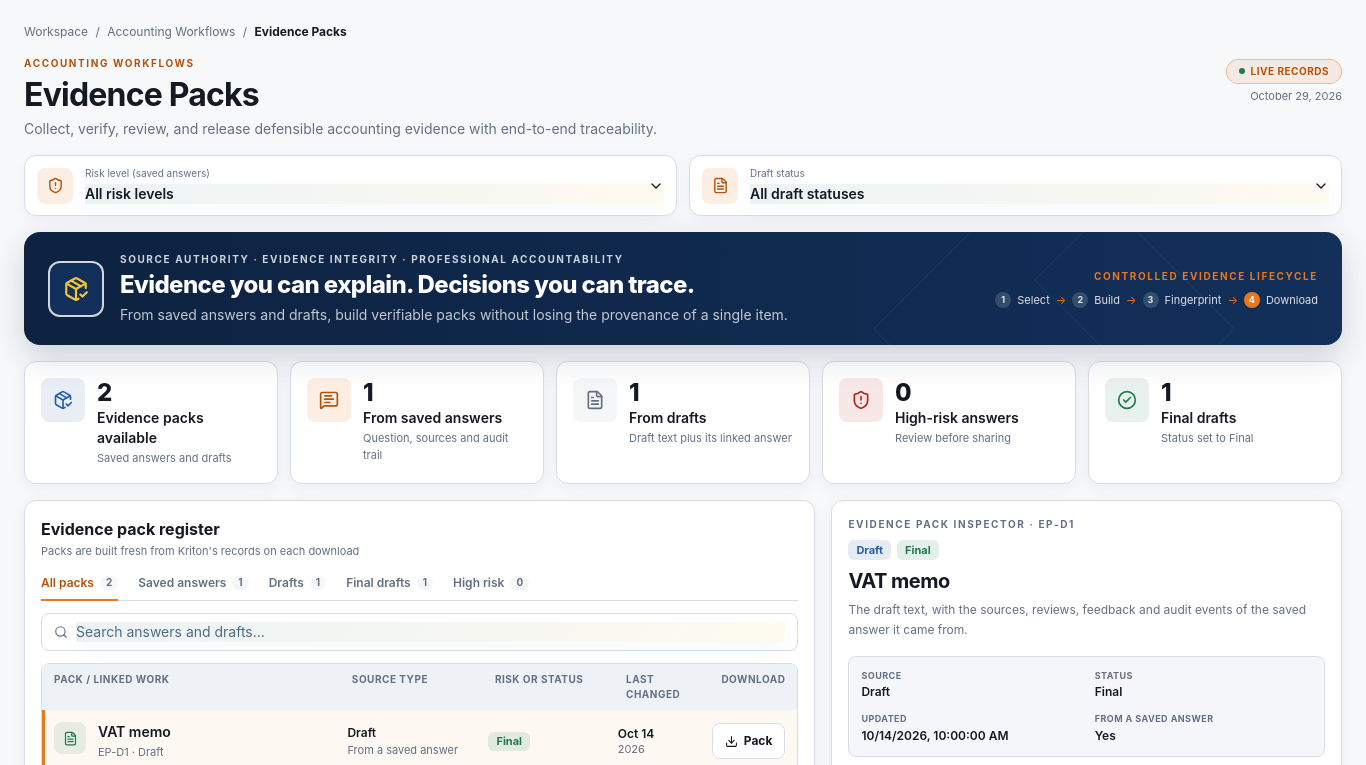
Test case: Evidence Packs › shows a failed download
Click the button with aria-label "Download evidence pack for" at [749, 741], box [712,723,785,759]
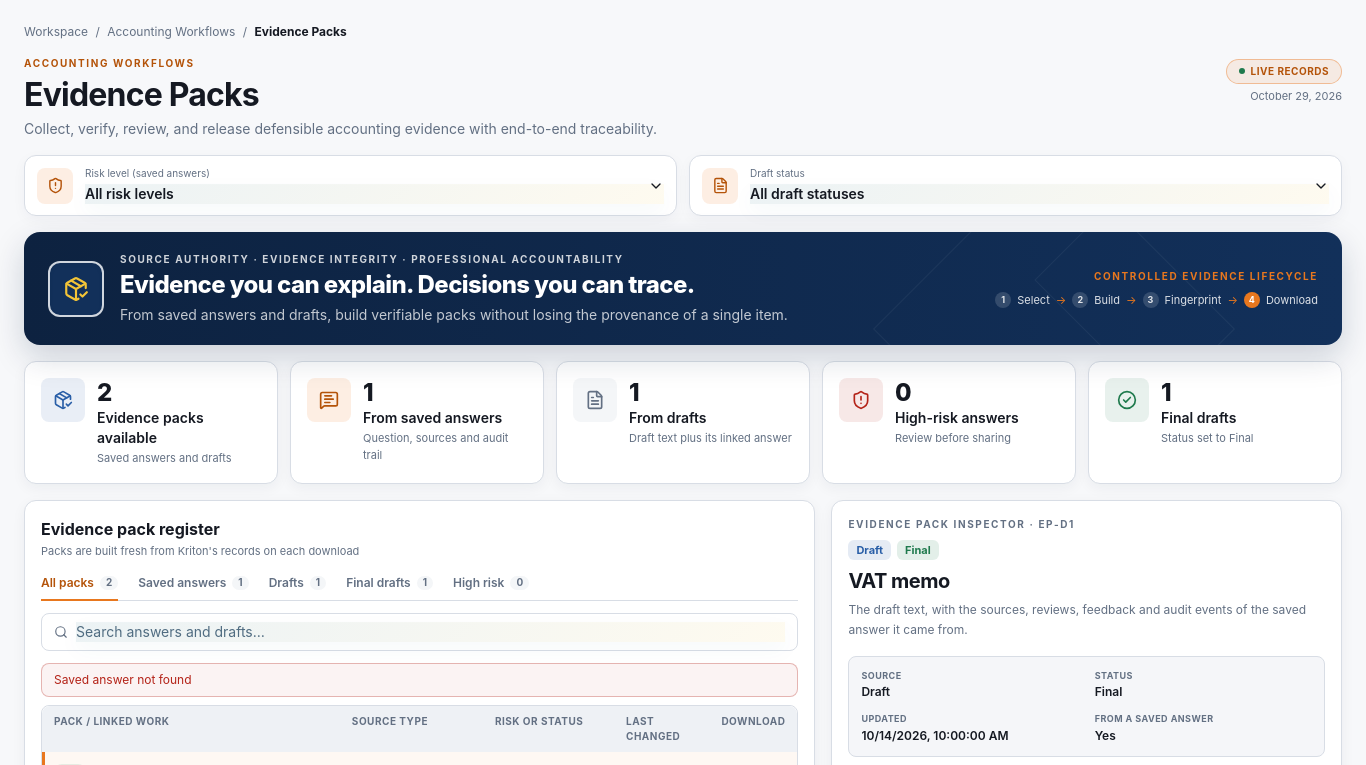
Check: the message reads "Saved answer not found", box [54,672,192,687]
